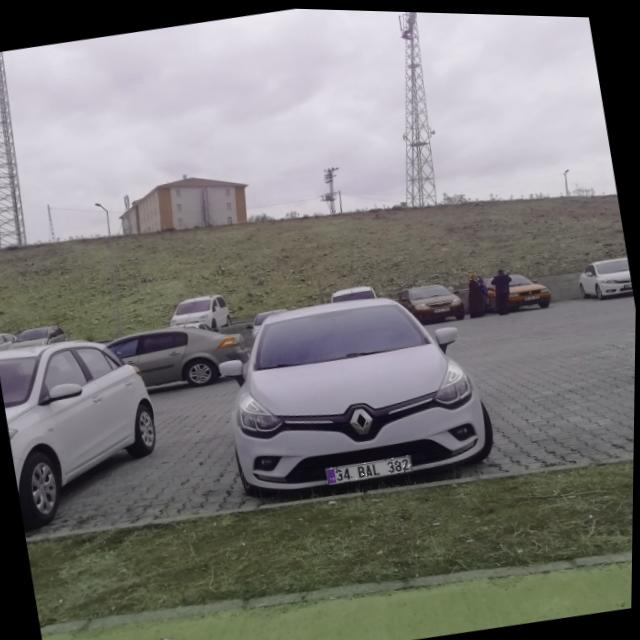license_plate: (325, 450, 415, 484)
